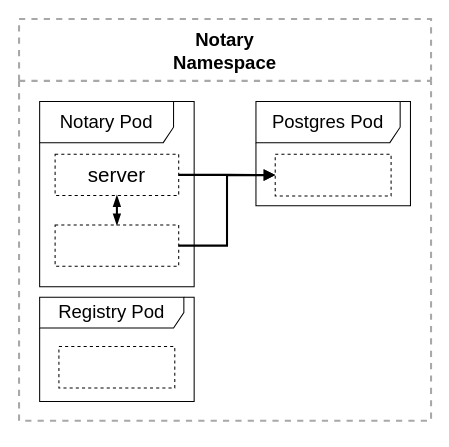
The diagram is 449 pixels wide and 447 high, and some of its shapes have lost their labels. The shapes that lost their labels are listed below. From the top down, each one's centre as x and y in pixels, then its label:
the point at 332,174: postgres
the point at 116,245: signer
the point at 116,366: registry
